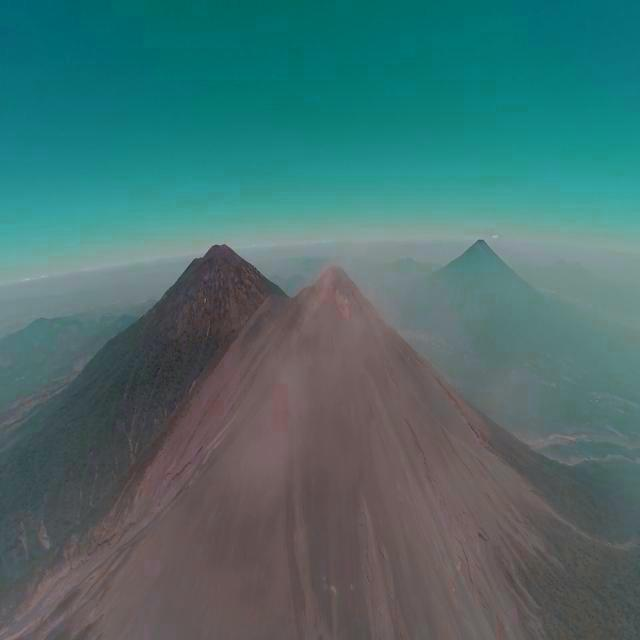Summit: (296, 262, 377, 321)
